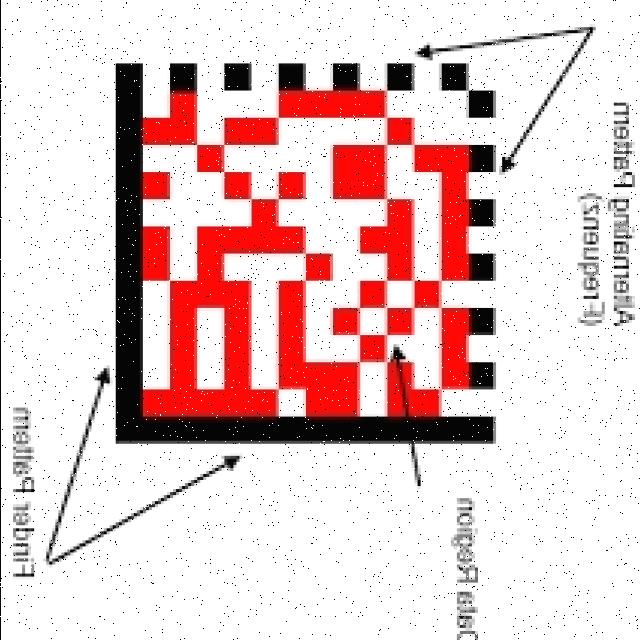datamatrix: (106, 51, 501, 450)
